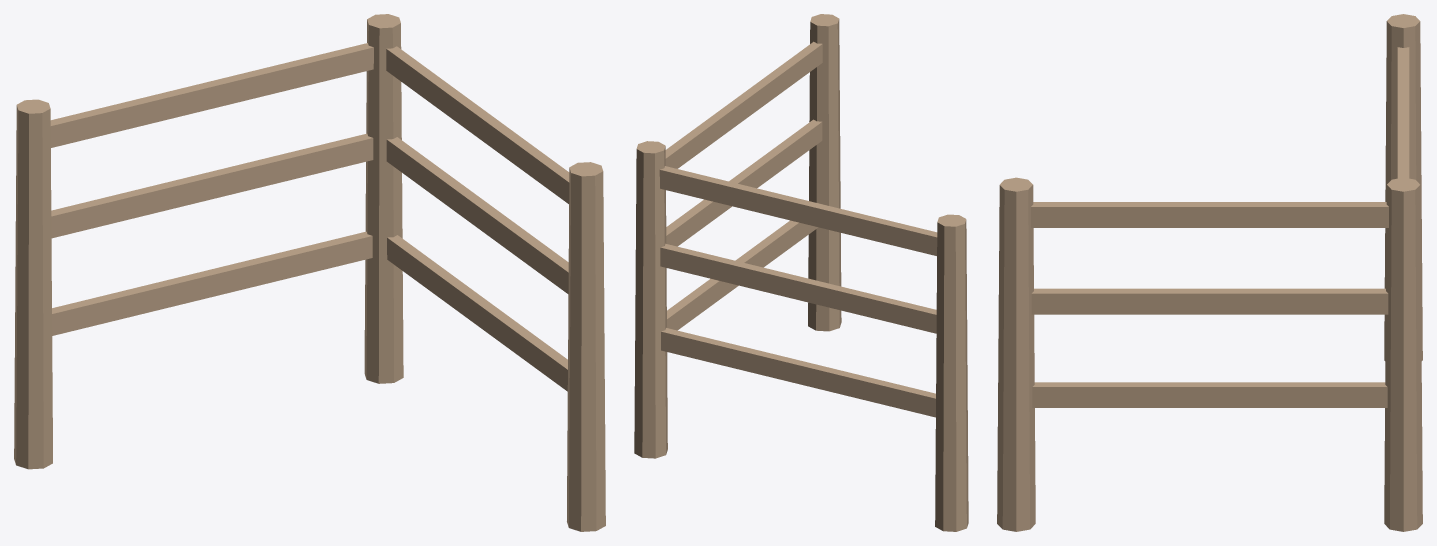
The model's file is post-and-rail-fence-corner.glb.
3 renders of one model, left to right at view 1: azimuth 30°, elevation 25°; view 2: azimuth 150°, elevation 25°; view 3: azimuth 270°, elevation 25°, orthographic. The views are drawn at different scales.
Parts seen in each view (by area): view 1: fence-rail-corner; view 2: fence-rail-corner; view 3: fence-rail-corner.
Boxes of the visible parts, left/top/right/bottom form: fence-rail-corner: left=14, top=14, right=605, bottom=531; fence-rail-corner: left=634, top=14, right=968, bottom=531; fence-rail-corner: left=997, top=14, right=1422, bottom=531.
Size of the model in its own units: 1.65 by 1.45 by 1.65.
